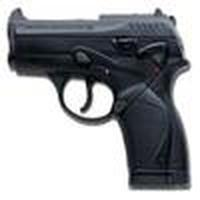gun: (7, 10, 200, 190)
